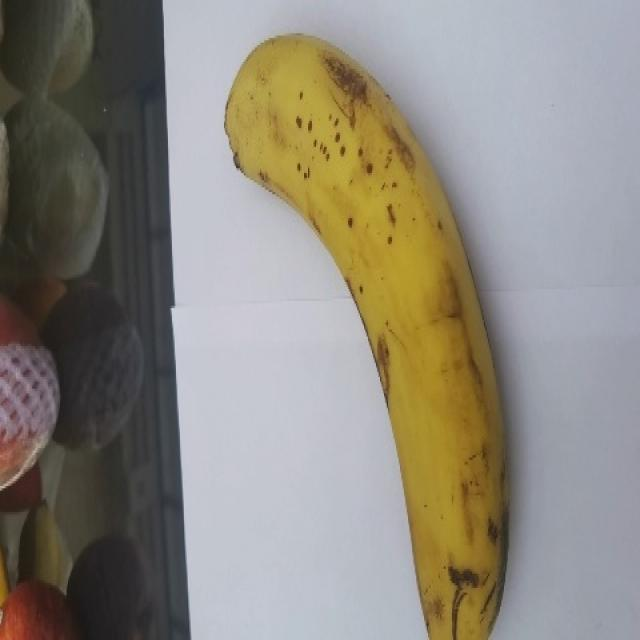Banana: (223, 31, 510, 638)
